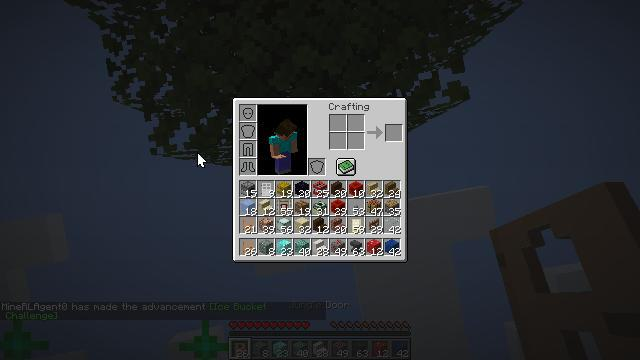cursor: (197, 152, 207, 168)
